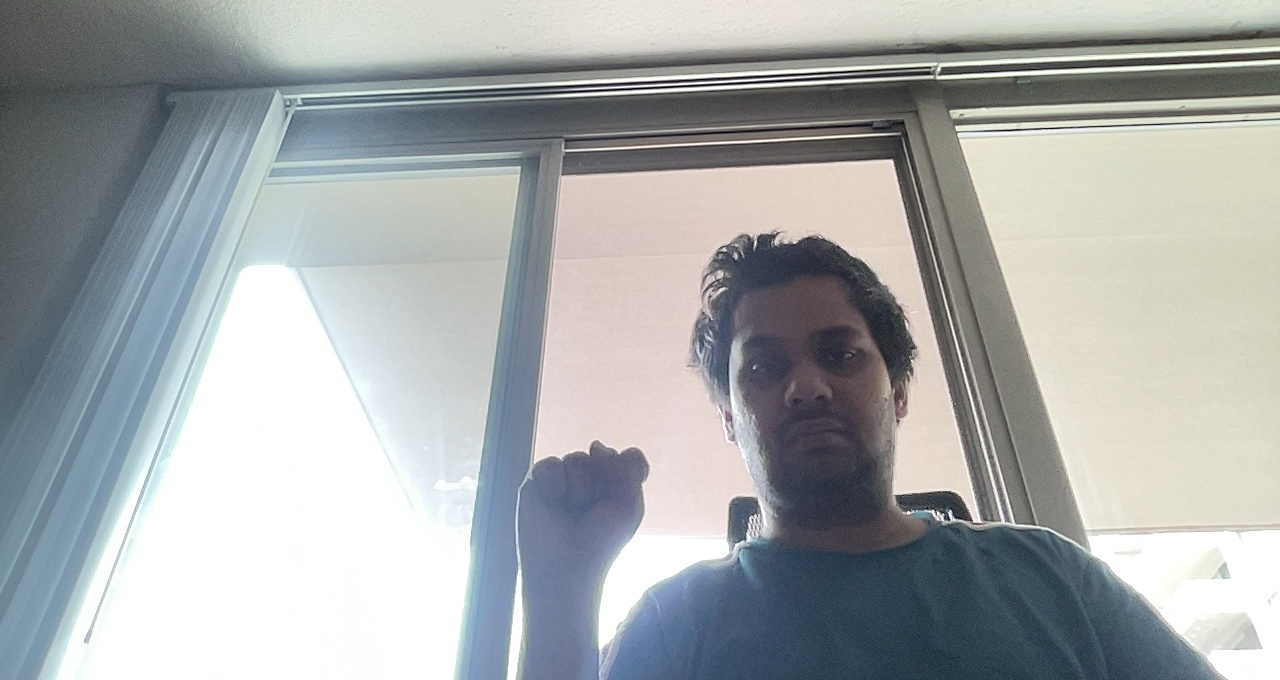closedfist: (507, 433, 653, 569)
